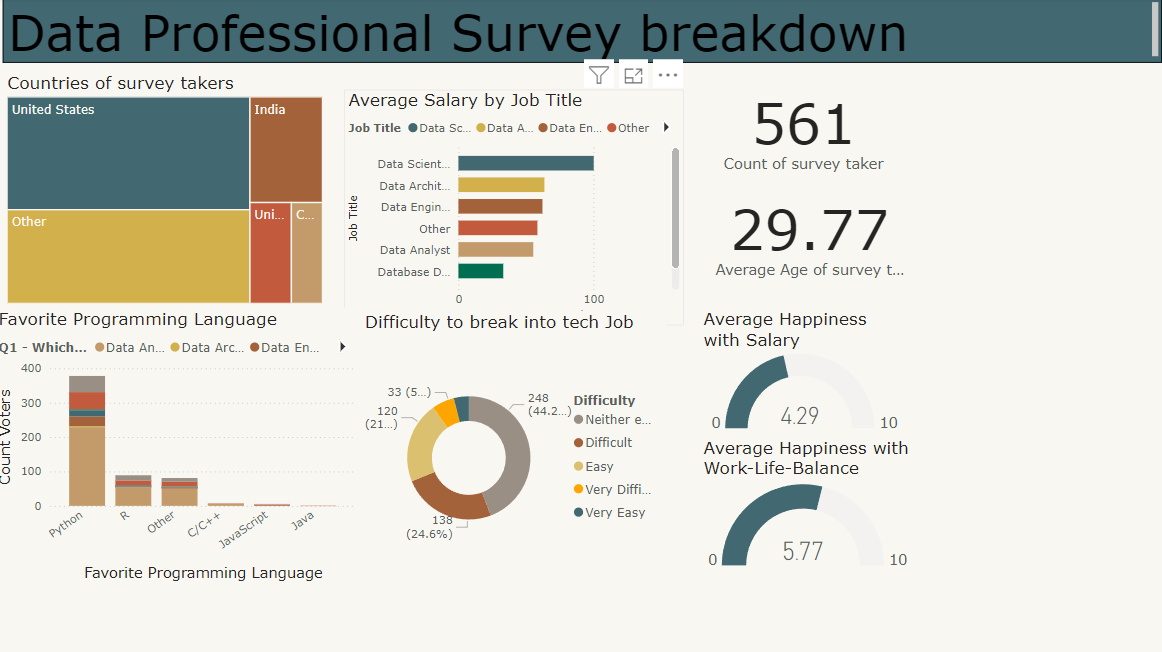

The page's visual inventory and layout, read from the dashboard file:
{"tool":"powerbi","page":{"name":"Page 1","canvas":[1280,720],"ordinal":0},"visuals":[{"type":"textbox","box":[9.6,0,1270.7,111.1],"z":0},{"type":"textbox","box":[10.1,0,1269.7,71.9],"z":1000},{"type":"card","fields":{"Values":["Count(Data Professional Survey.Unique ID)"]},"box":[784.3,85.4,204.5,119.1],"z":2000},{"type":"card","fields":{"Values":["Avg(Data Professional Survey.Q10 - Current Age)"]},"box":[784.3,192.1,218,139.3],"z":3000},{"type":"barChart","title":"Average Salary by Job Title","fields":{"Category":["Data Professional Survey.Q1 - Which Title Best Fits your Current Role?"],"Y":["Avg(Data Professional Survey.Average Salary)"],"Series":["Data Professional Survey.Q1 - Which Title Best Fits your Current Role?"]},"box":[383,101.2,372,258.5],"z":4000},{"type":"columnChart","title":"Favorite Programming Language","fields":{"Category":["Data Professional Survey.Q5 - Favorite Programming Language"],"Y":["CountNonNull(Data Professional Survey.Unique ID)"],"Series":["Data Professional Survey.Q1 - Which Title Best Fits your Current Role?"]},"box":[0,340.4,401.1,303.4],"z":5000},{"type":"treemap","title":" Countries of survey takers","fields":{"Group":["Data Professional Survey.Q11 - Which Country do you live in?"],"Values":["CountNonNull(Data Professional Survey.Q11 - Which Country do you live in?)"]},"box":[10.1,82,355.1,258.4],"z":6000},{"type":"gauge","title":"Average Happiness with Work-Life-Balance","fields":{"Y":["Avg(Data Professional Survey.Q6 - How Happy are you in your Current Position with the following? (Work/Life Balance))"],"MinValue":["Min(Data Professional Survey.Q6 - How Happy are you in your Current Position with the following? (Work/Life Balance))"],"MaxValue":["Max(Data Professional Survey.Q6 - How Happy are you in your Current Position with the following? (Work/Life Balance))"]},"box":[770.8,482,238.2,152.8],"z":7000},{"type":"gauge","title":"Average  Happiness with  Salary","fields":{"Y":["Avg(Data Professional Survey.Q6 - How Happy are you in your Current Position with the following? (Salary))"],"MinValue":["Min(Data Professional Survey.Q6 - How Happy are you in your Current Position with the following? (Salary))"],"MaxValue":["Max(Data Professional Survey.Q6 - How Happy are you in your Current Position with the following? (Salary))"]},"box":[770.8,340.4,231.5,141.6],"z":8000},{"type":"donutChart","title":"Difficulty to break into tech Job","fields":{"Category":["Data Professional Survey.Q7 - How difficult was it for you to break into Data?"],"Y":["CountNonNull(Data Professional Survey.Q7 - How difficult was it for you to break into Data?)"]},"box":[401,343,336,300],"z":9000}]}

Visuals, with their boxes in screenshot pixels (x1, y1, x2, y2), scaled from the page's 1280x720 canvas onto the 1162x652 screenshot:
textbox: (x1=9, y1=0, x2=1161, y2=101)
textbox: (x1=9, y1=0, x2=1161, y2=65)
card - Count(Data Professional Survey.Unique ID): (x1=712, y1=77, x2=898, y2=185)
card - Avg(Data Professional Survey.Q10 - Current Age): (x1=712, y1=174, x2=910, y2=300)
"Average Salary by Job Title" barChart: (x1=348, y1=92, x2=685, y2=326)
"Favorite Programming Language" columnChart: (x1=0, y1=308, x2=364, y2=583)
" Countries of survey takers" treemap: (x1=9, y1=74, x2=332, y2=308)
"Average Happiness with Work-Life-Balance" gauge: (x1=700, y1=436, x2=916, y2=575)
"Average  Happiness with  Salary" gauge: (x1=700, y1=308, x2=910, y2=436)
"Difficulty to break into tech Job" donutChart: (x1=364, y1=311, x2=669, y2=582)
